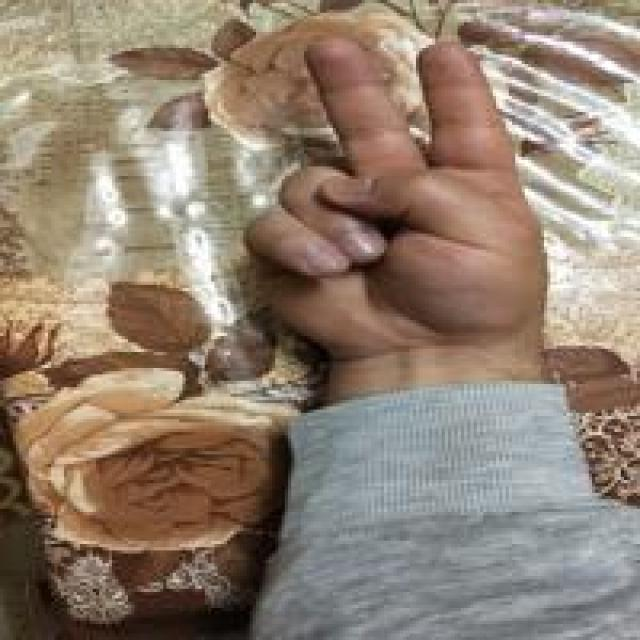V: (230, 32, 570, 349)
